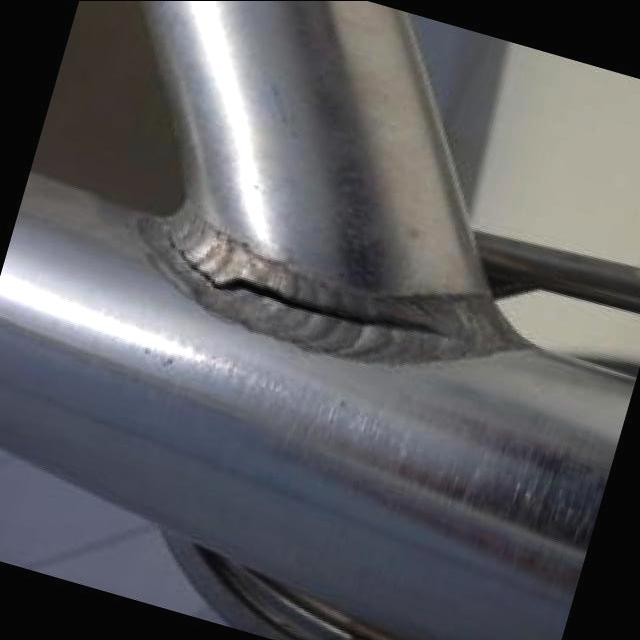defect: (160, 233, 451, 338)
